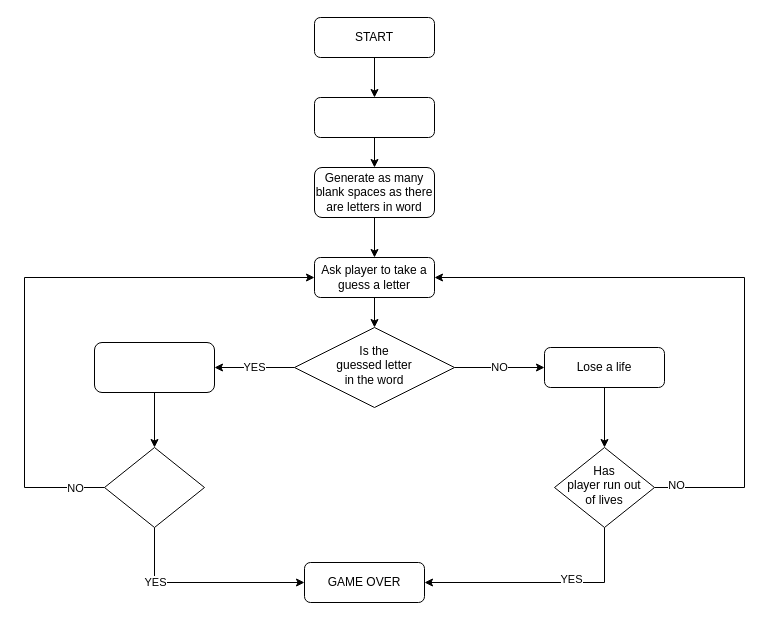
Image size: 770x620. Some labels were removed from this diagram. Each missing label, with the centre of its shape:
Generate word from list: the point at 374,117
Has player guessed all letters: the point at 154,487
Replace relevant blank space with guessed word: the point at 154,367
